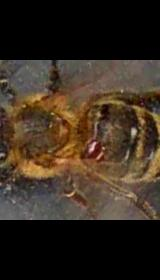varroa_mite: (83, 134, 108, 169)
